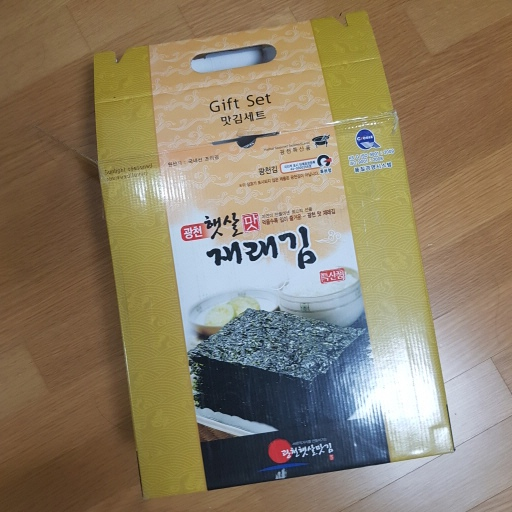Paper_0: (75, 7, 461, 503)
